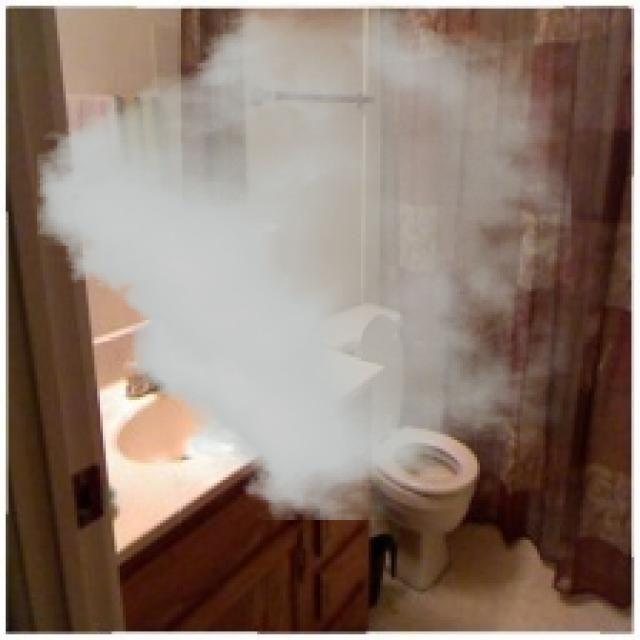smoke: (37, 3, 572, 520)
